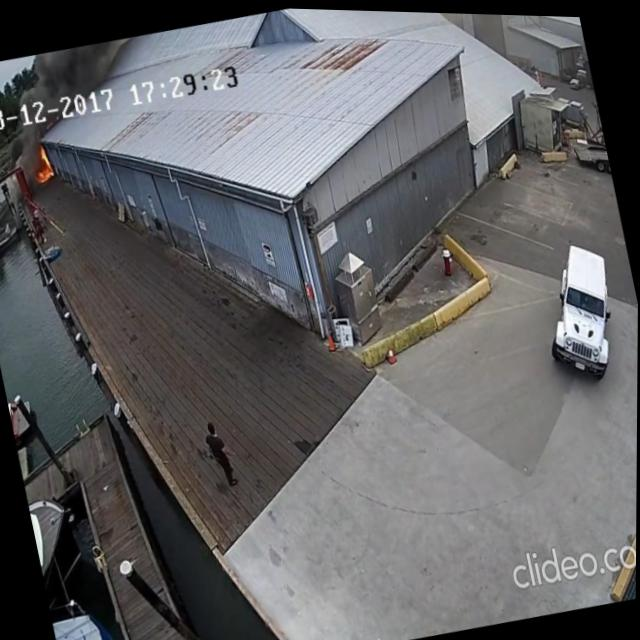fire: (26, 141, 57, 185)
